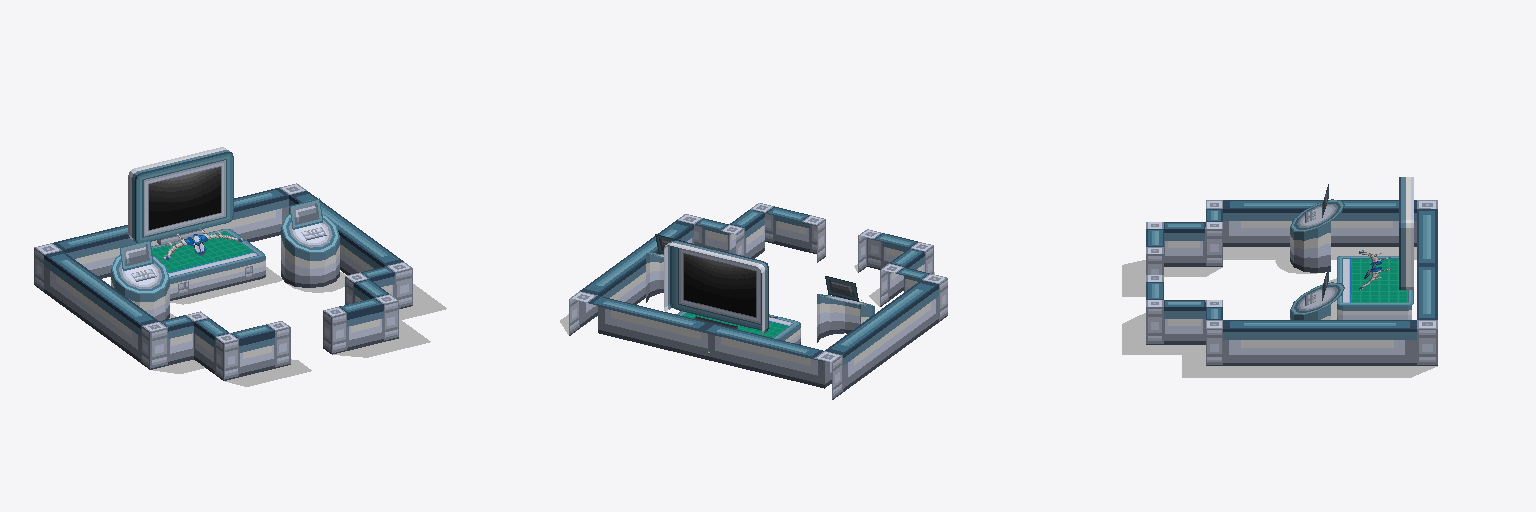
3 views of the same model, side by side, from view 1: azimuth 30°, elevation 25°; view 2: azimuth 150°, elevation 25°; view 3: azimuth 270°, elevation 25° (orthographic).
Visible parts, largest first — view 1: polygon0, polygon1, polygon2, polygon5; view 2: polygon0, polygon2; view 3: polygon0, polygon1, polygon5.
Part boxes in pixels (bbox=[...]): polygon0: bbox=[34, 147, 412, 380]; polygon1: bbox=[153, 267, 446, 386]; polygon2: bbox=[149, 167, 220, 229]; polygon5: bbox=[152, 231, 252, 272]; polygon0: bbox=[569, 203, 947, 399]; polygon2: bbox=[684, 254, 755, 316]; polygon0: bbox=[1146, 177, 1437, 365]; polygon1: bbox=[1122, 247, 1437, 377]; polygon5: bbox=[1351, 259, 1407, 302].
Bounding box in the file's own units: 13.88 × 4.82 × 13.25.
7 materials, 6 textured.